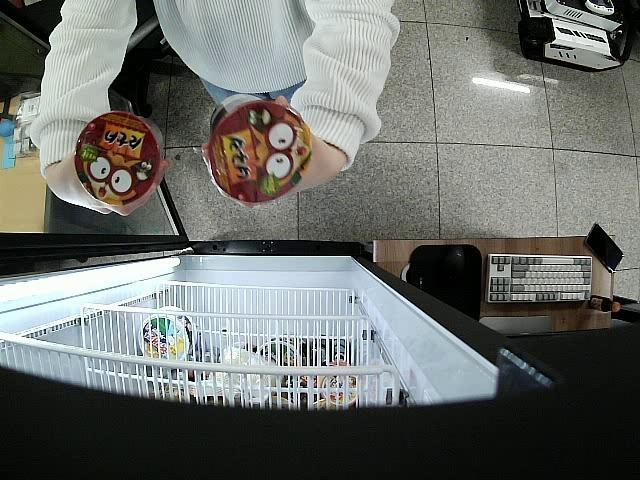06_nuguri_S: (208, 93, 314, 204), (74, 114, 166, 207)
